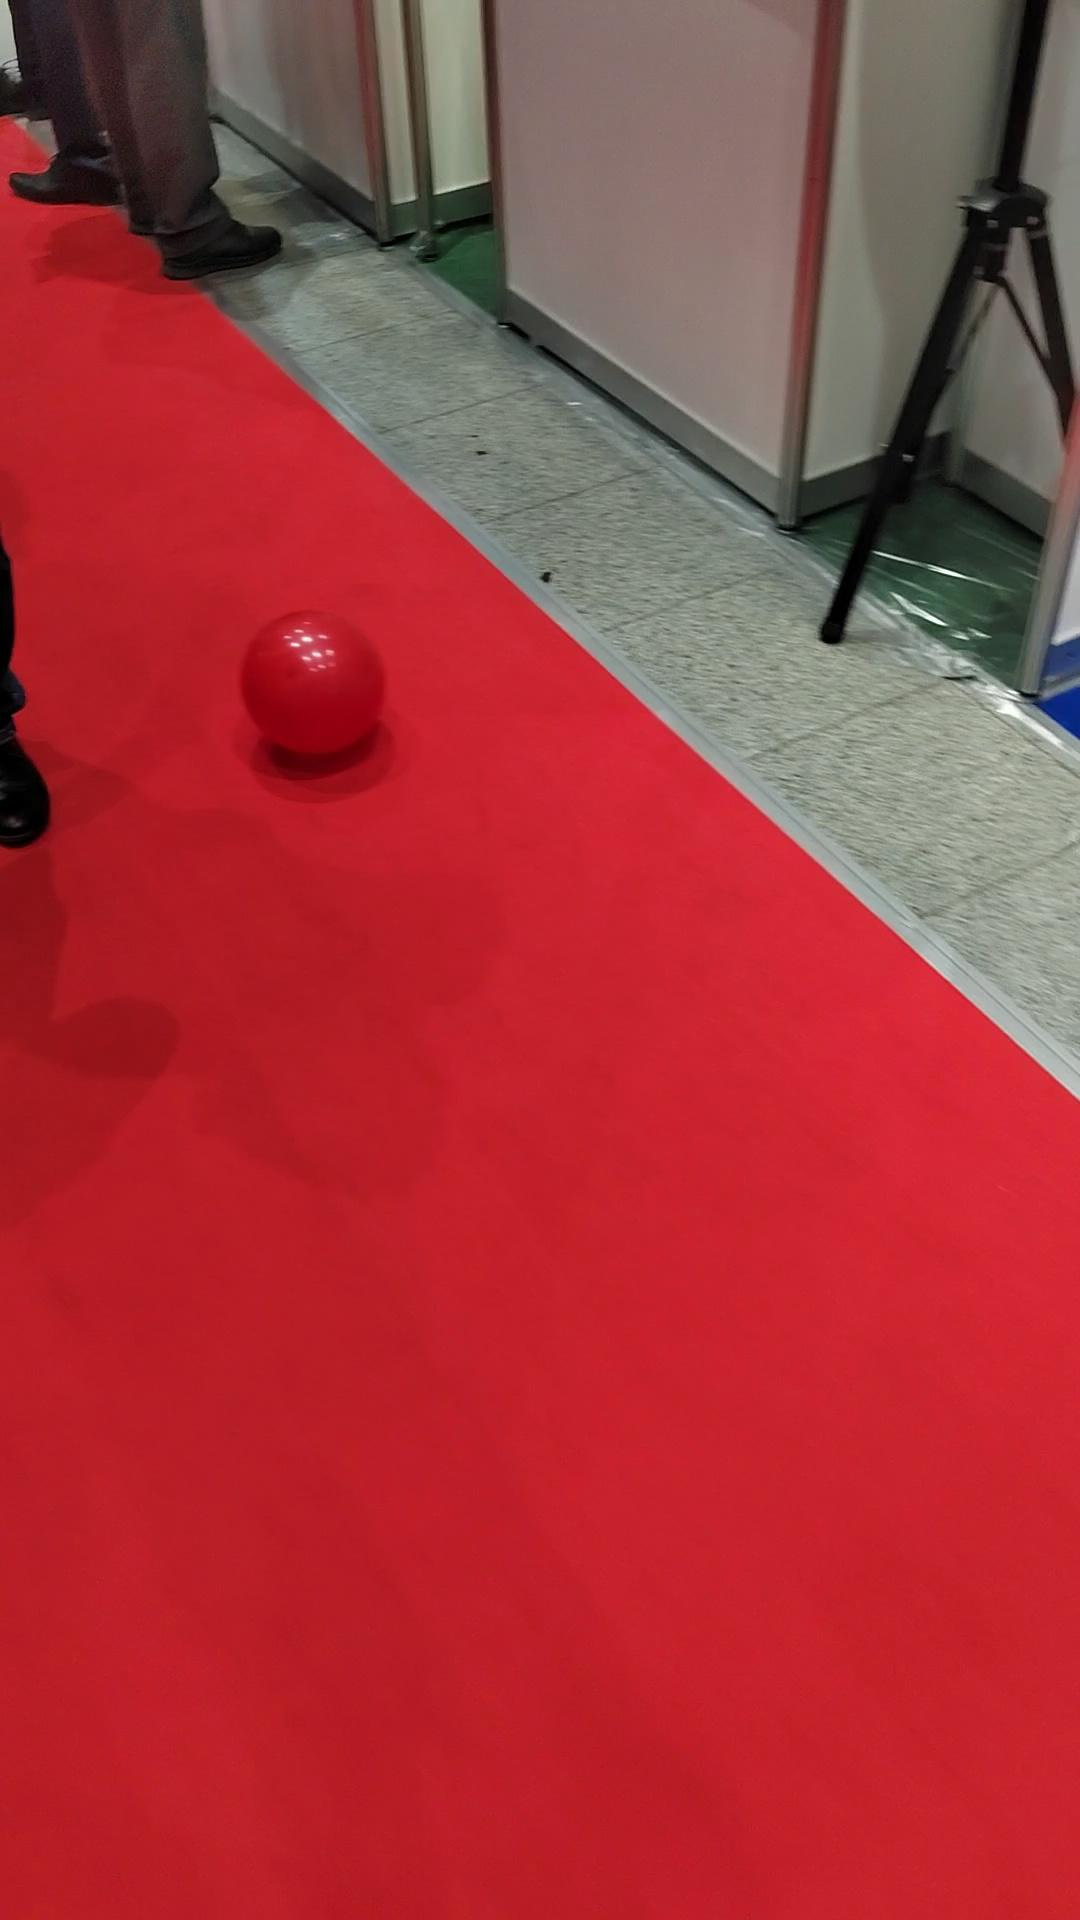red: (237, 611, 384, 756)
